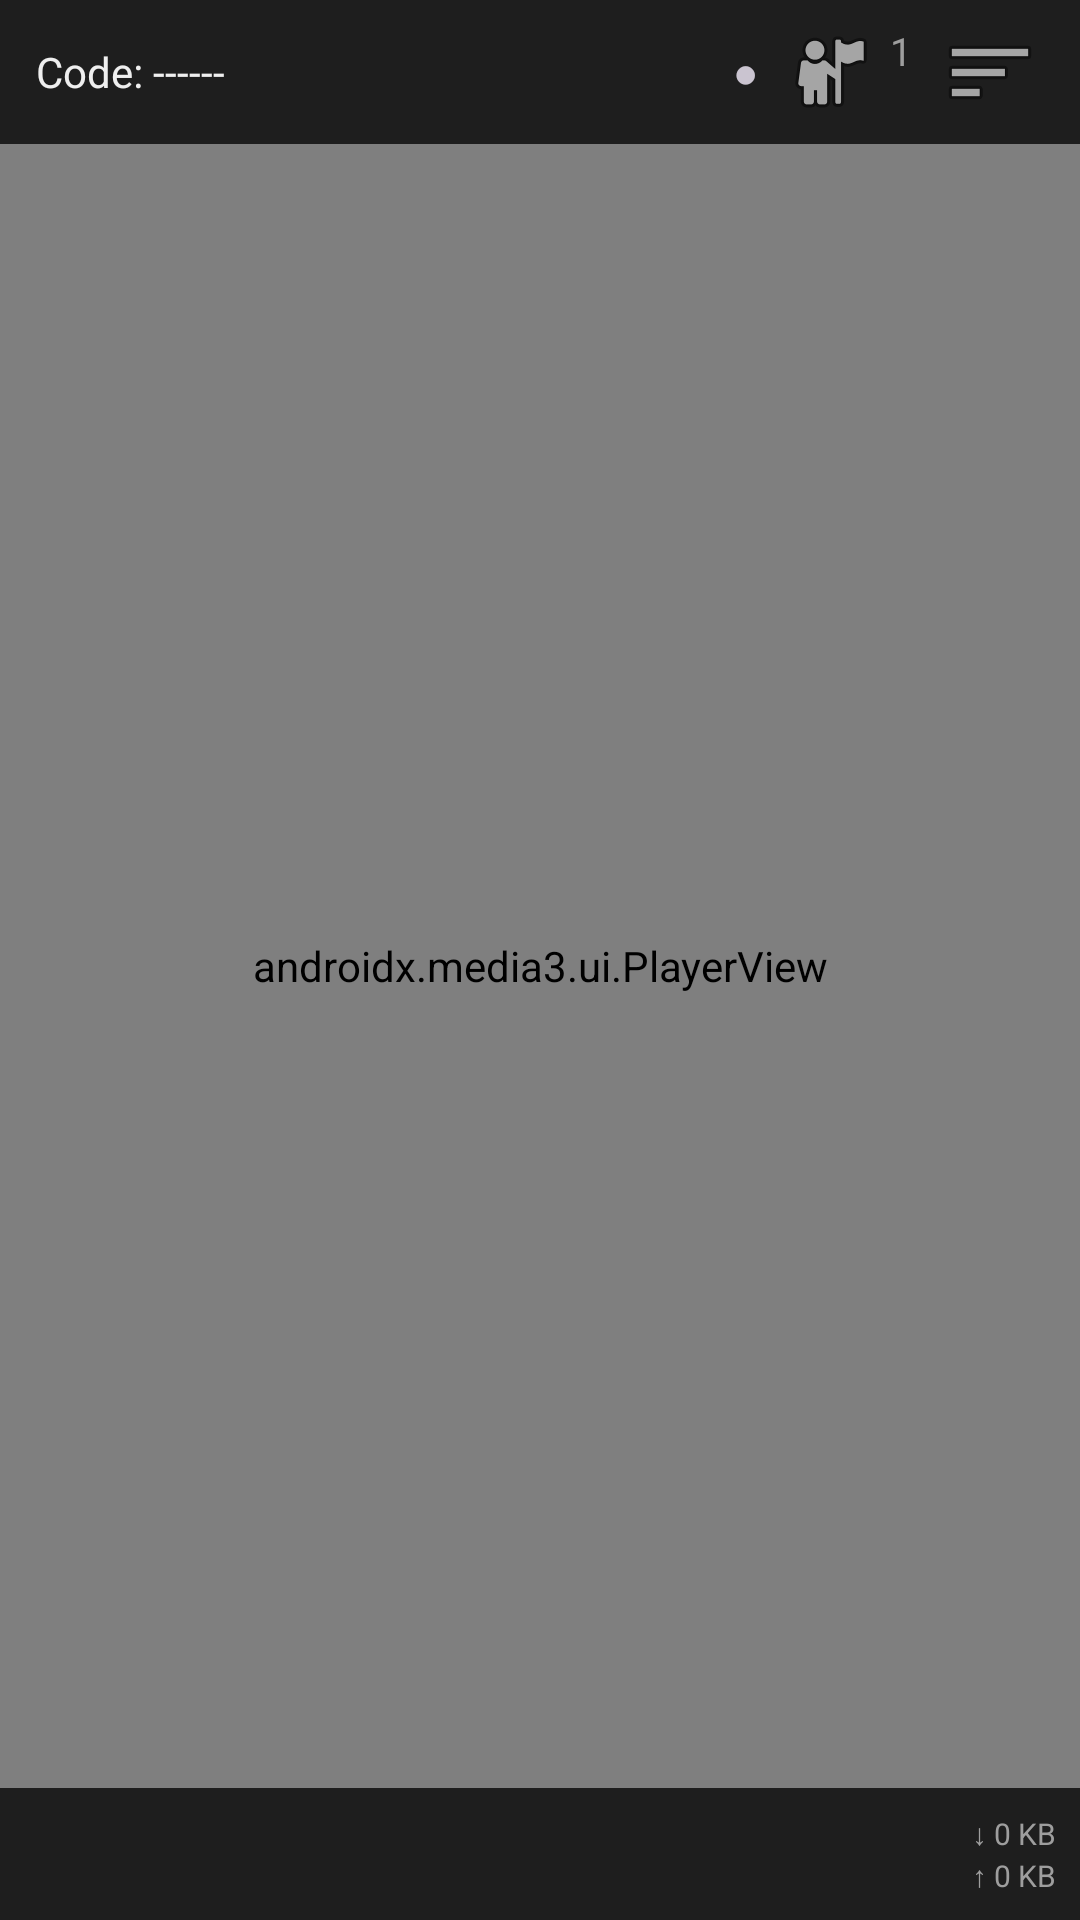

Icon bounding boxes for this 1080px×1920px phone screenshot, format (x1, y1, x2, y2):
Toggle sidebar: (952, 49, 1028, 96)
